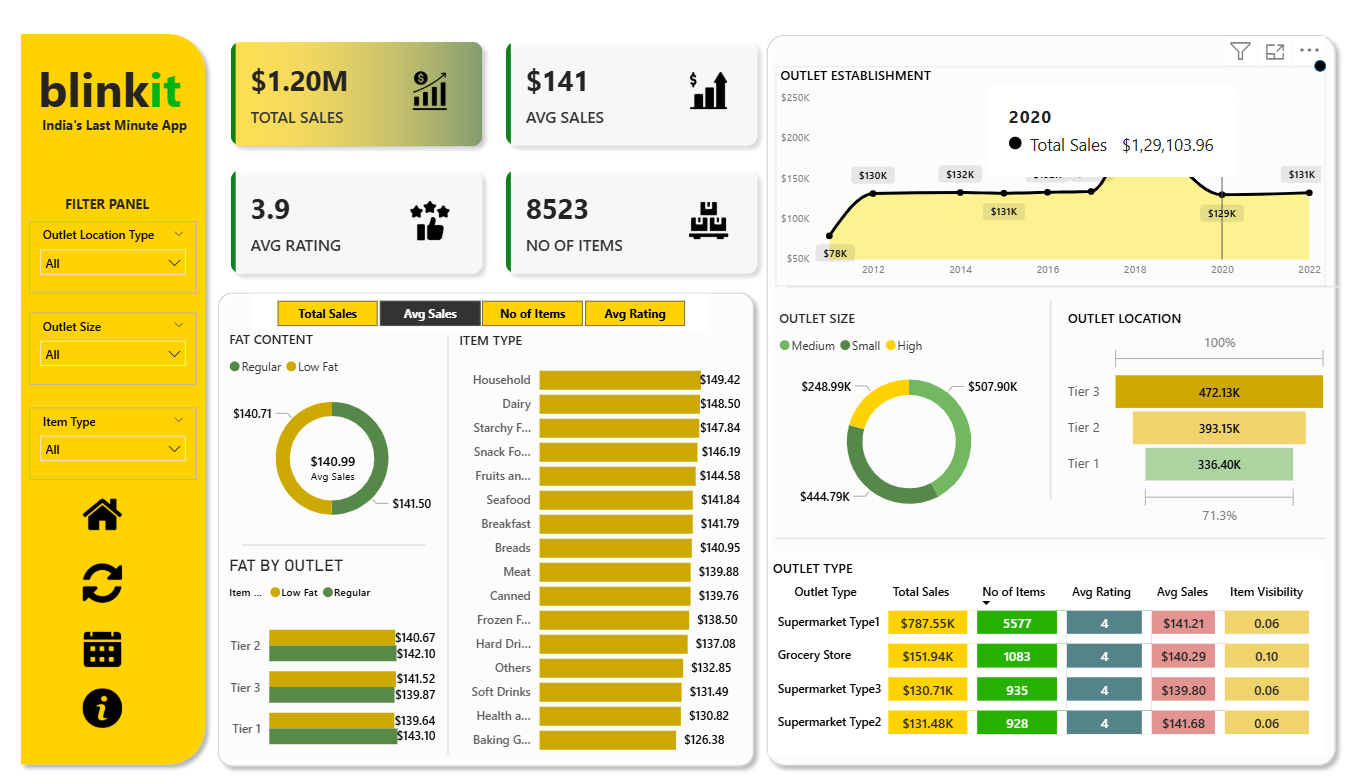

The page's visual inventory and layout, read from the dashboard file:
{"tool":"powerbi","page":{"name":"Page 1","canvas":[1400,800],"ordinal":0},"visuals":[{"type":"shape","box":[13.5,25,205.8,761.5],"z":0},{"type":"textbox","box":[32.2,52.3,163.5,99.2],"z":1000},{"type":"textbox","box":[22.8,112.6,191.7,28.2],"z":2000},{"type":"cardVisual","fields":{"Data":["BlinkIT Grocery Data.Total Sales","BlinkIT Grocery Data.Avg Sales","BlinkIT Grocery Data.Avg Rating","BlinkIT Grocery Data.No of Items"]},"box":[219.8,25.5,570,270.8],"z":3000},{"type":"shape","box":[214.5,288.2,563,500],"z":4000},{"type":"donutChart","title":"FAT CONTENT","fields":{"Y":["BlinkIT Grocery Data.Avg Sales"],"Category":["BlinkIT Grocery Data.Item Fat Content"]},"box":[230.6,335.1,219.8,215.8],"z":5000},{"type":"slicer","fields":{"Values":["Metrics.Metrics"]},"box":[258.7,298.9,465.1,37.5],"z":6000},{"type":"cardVisual","fields":{"Data":["BlinkIT Grocery Data.Avg Sales"]},"box":[274.8,442.4,132.7,64.3],"z":7000},{"type":"clusteredBarChart","title":"FAT BY OUTLET","fields":{"Y":["BlinkIT Grocery Data.Avg Sales"],"Category":["BlinkIT Grocery Data.Outlet Location Type"],"Series":["BlinkIT Grocery Data.Item Fat Content"]},"box":[230.6,564.3,219.8,215.8],"z":8000},{"type":"shape","box":[247.6,548.2,187.1,12.9],"z":9000},{"type":"shape","box":[450.9,340.9,12.7,427.3],"z":10000},{"type":"barChart","title":"ITEM TYPE","fields":{"Y":["BlinkIT Grocery Data.Avg Sales"],"Category":["BlinkIT Grocery Data.Item Type"]},"box":[463.8,336.5,296.2,441],"z":11000},{"type":"shape","box":[773.5,26.8,596.5,761.4],"z":12000},{"type":"lineChart","title":"OUTLET ESTABLISHMENT","fields":{"Category":["BlinkIT Grocery Data.Outlet Establishment Year"],"Y":["BlinkIT Grocery Data.Total Sales"]},"box":[790.9,67,560.3,223.9],"z":13000},{"type":"shape","box":[803,285.5,561.7,10.7],"z":14000},{"type":"donutChart","title":"OUTLET SIZE","fields":{"Y":["BlinkIT Grocery Data.Total Sales"],"Category":["BlinkIT Grocery Data.Outlet Size"]},"box":[789.5,313.7,274.8,225.2],"z":15000},{"type":"shape","box":[1064.5,306.4,12.7,202.7],"z":16000},{"type":"funnel","title":"OUTLET LOCATION","fields":{"Y":["Sum(BlinkIT Grocery Data.Sales)"],"Category":["BlinkIT Grocery Data.Outlet Location Type"]},"box":[1083.1,313.7,274.8,225.2],"z":17000},{"type":"shape","box":[790.9,541.6,560.3,12.1],"z":18000},{"type":"pivotTable","title":"OUTLET TYPE","fields":{"Rows":["BlinkIT Grocery Data.Outlet Type"],"Values":["BlinkIT Grocery Data.Total Sales","BlinkIT Grocery Data.No of Items","BlinkIT Grocery Data.Avg Rating","BlinkIT Grocery Data.Avg Sales","Avg(BlinkIT Grocery Data.Item Visibility)"]},"box":[782.8,568.4,568.4,199.7],"z":19000},{"type":"slicer","fields":{"Values":["BlinkIT Grocery Data.Outlet Location Type"]},"box":[32.2,225.2,170.2,73.7],"z":20000},{"type":"slicer","fields":{"Values":["BlinkIT Grocery Data.Outlet Size"]},"box":[32.2,317.7,170.2,73.7],"z":21000},{"type":"slicer","fields":{"Values":["BlinkIT Grocery Data.Item Type"]},"box":[32.2,414.2,170.2,73.7],"z":22000},{"type":"textbox","box":[38.9,193,143.4,29.5],"z":23000},{"type":"image","box":[81.8,498.7,50,50],"z":24000},{"type":"image","box":[81.8,568.4,50,50],"z":25000},{"type":"image","box":[81.8,635.4,49.6,49.6],"z":26000},{"type":"image","box":[81.8,695.7,49.6,49.6],"z":27000},{"type":"shape","box":[1339.1,61.7,12.1,12.1],"z":28000},{"type":"image","box":[414.2,67,49.6,49.6],"z":29000},{"type":"image","box":[698.4,199.7,49.6,49.6],"z":30000},{"type":"image","box":[414.2,199.7,49.6,49.6],"z":31000},{"type":"image","box":[698.4,67,49.6,49.6],"z":32000}]}

Visuals, with their boxes in screenshot pixels (x1, y1, x2, y2), scaled from the page's 1400x800 canvas onto the 1372x779 screenshot:
shape: x1=13, y1=24, x2=215, y2=766
textbox: x1=32, y1=51, x2=192, y2=148
textbox: x1=22, y1=110, x2=210, y2=137
cardVisual - BlinkIT Grocery Data.Total Sales x BlinkIT Grocery Data.Avg Sales: x1=215, y1=25, x2=774, y2=289
shape: x1=210, y1=281, x2=762, y2=768
"FAT CONTENT" donutChart: x1=226, y1=326, x2=441, y2=536
slicer - Metrics.Metrics: x1=254, y1=291, x2=709, y2=328
cardVisual - BlinkIT Grocery Data.Avg Sales: x1=269, y1=431, x2=399, y2=493
"FAT BY OUTLET" clusteredBarChart: x1=226, y1=549, x2=441, y2=760
shape: x1=243, y1=534, x2=426, y2=546
shape: x1=442, y1=332, x2=454, y2=748
"ITEM TYPE" barChart: x1=455, y1=328, x2=745, y2=757
shape: x1=758, y1=26, x2=1343, y2=768
"OUTLET ESTABLISHMENT" lineChart: x1=775, y1=65, x2=1324, y2=283
shape: x1=787, y1=278, x2=1337, y2=288
"OUTLET SIZE" donutChart: x1=774, y1=305, x2=1043, y2=525
shape: x1=1043, y1=298, x2=1056, y2=496
"OUTLET LOCATION" funnel: x1=1061, y1=305, x2=1331, y2=525
shape: x1=775, y1=527, x2=1324, y2=539
"OUTLET TYPE" pivotTable: x1=767, y1=553, x2=1324, y2=748
slicer - BlinkIT Grocery Data.Outlet Location Type: x1=32, y1=219, x2=198, y2=291
slicer - BlinkIT Grocery Data.Outlet Size: x1=32, y1=309, x2=198, y2=381
slicer - BlinkIT Grocery Data.Item Type: x1=32, y1=403, x2=198, y2=475
textbox: x1=38, y1=188, x2=179, y2=217
image: x1=80, y1=486, x2=129, y2=534
image: x1=80, y1=553, x2=129, y2=602
image: x1=80, y1=619, x2=129, y2=667
image: x1=80, y1=677, x2=129, y2=726
shape: x1=1312, y1=60, x2=1324, y2=72
image: x1=406, y1=65, x2=455, y2=114
image: x1=684, y1=194, x2=733, y2=243
image: x1=406, y1=194, x2=455, y2=243
image: x1=684, y1=65, x2=733, y2=114
